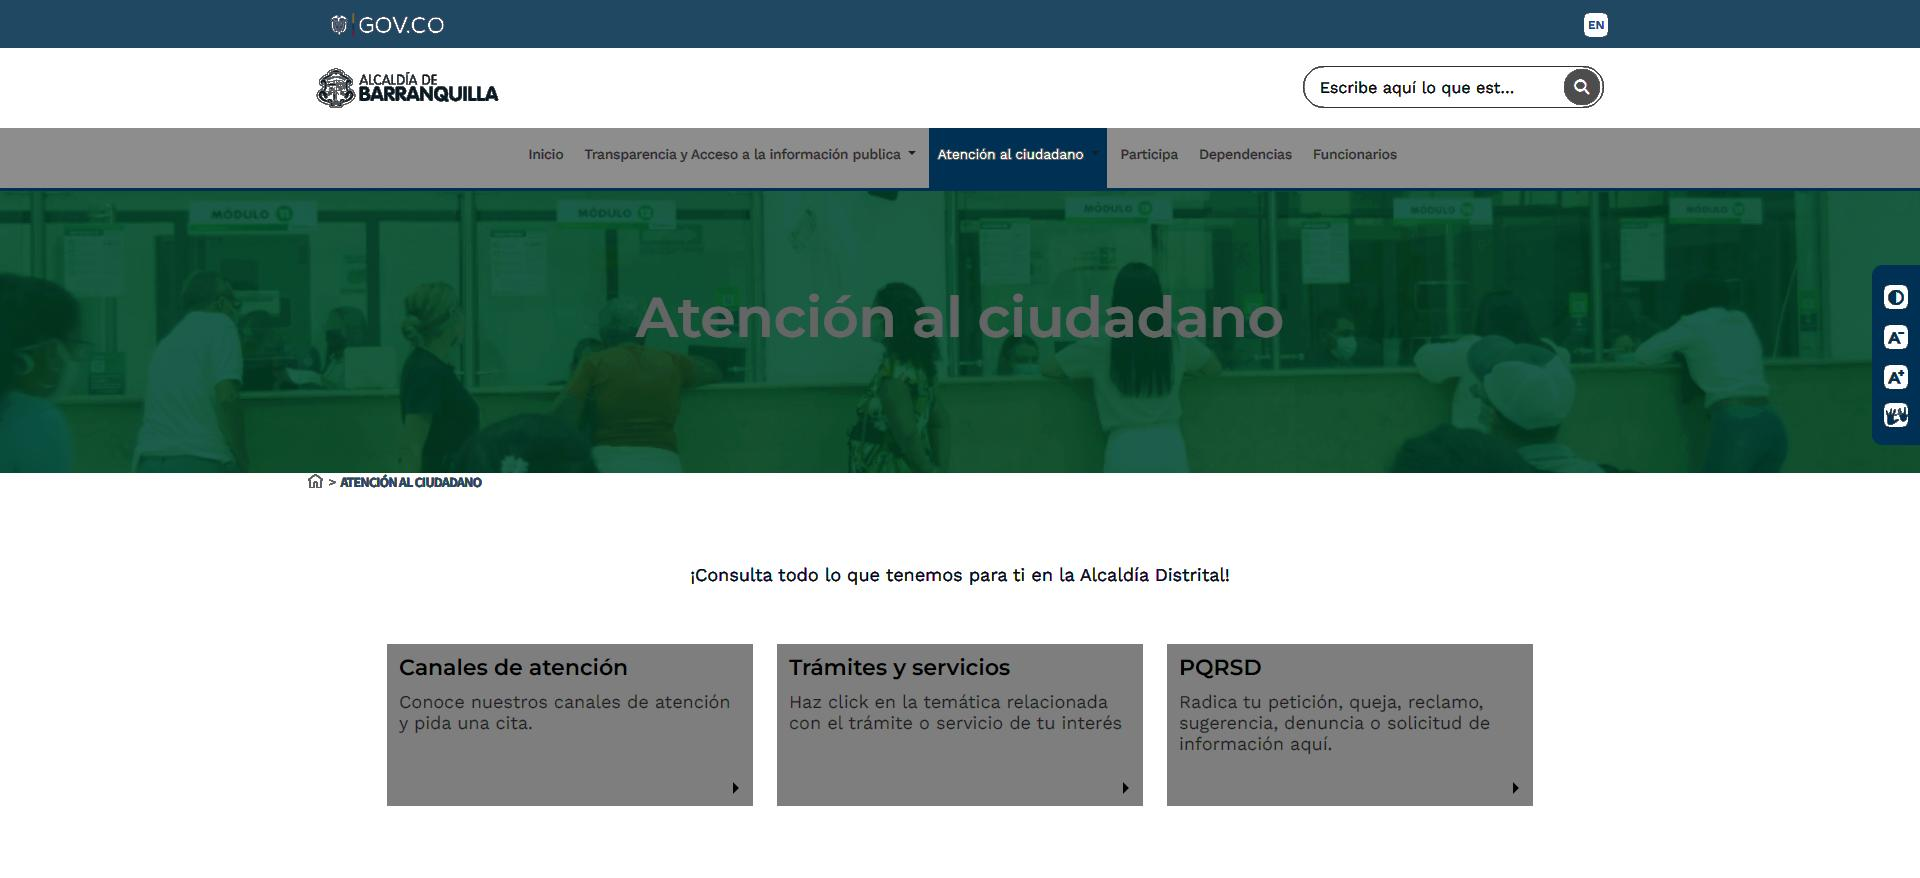barra accesibilidad: (1870, 263, 1920, 445)
barra govco: (325, 1, 1608, 53)
btn atencion ciudadano: (935, 147, 1102, 167)
btn buscador: (1302, 62, 1606, 111), (1574, 78, 1592, 97)
btn idiomas: (1585, 13, 1609, 39)
btn inicio: (525, 146, 566, 166)
btn participa: (1118, 146, 1184, 165)
btn tramites: (785, 653, 1017, 685)
btn transpariencia: (581, 145, 920, 166)
logogovco: (330, 8, 447, 44)
menu principal: (519, 123, 1411, 181)
